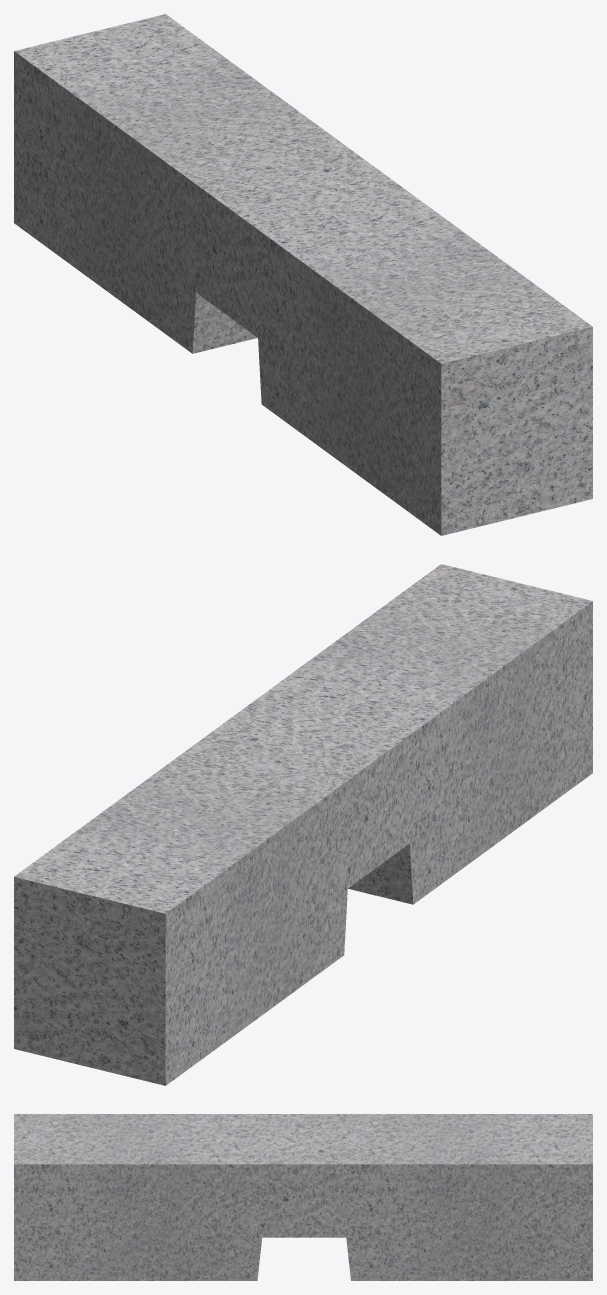
File: SM_W_Stone_2.fbx
3 renders of one model, top to bottom at view 1: azimuth 30°, elevation 25°; view 2: azimuth 150°, elevation 25°; view 3: azimuth 270°, elevation 25°, orthographic. The views are drawn at different scales.
Visible parts, largest first — view 1: SM_W_Stone_2; view 2: SM_W_Stone_2; view 3: SM_W_Stone_2.
Boxes of the visible parts, bbox=[...] form: SM_W_Stone_2: bbox=[14, 14, 592, 535]; SM_W_Stone_2: bbox=[14, 564, 592, 1085]; SM_W_Stone_2: bbox=[14, 1114, 592, 1280].
Size of the model in its own units: 36.96 by 180 by 40.08.
1 material, 1 textured.
